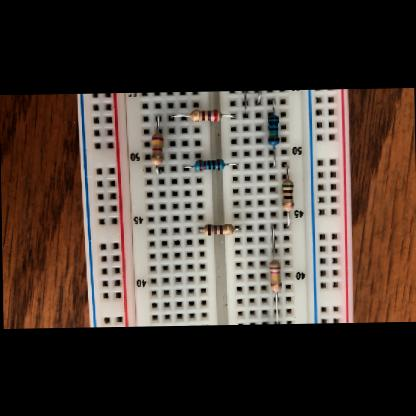breadboard: (75, 89, 353, 328)
resistor: (149, 132, 163, 166), (192, 158, 224, 172), (281, 179, 293, 212), (268, 260, 280, 292), (188, 109, 220, 121), (202, 224, 233, 236), (266, 114, 277, 146)
wire: (270, 225, 274, 259), (274, 292, 278, 324), (266, 98, 274, 113), (268, 147, 274, 167), (169, 114, 188, 119), (282, 163, 288, 178), (254, 90, 260, 104), (220, 113, 235, 118), (154, 115, 158, 132), (284, 211, 288, 228), (243, 90, 245, 116), (154, 166, 160, 174), (224, 164, 236, 167), (182, 165, 193, 168), (233, 227, 240, 230), (197, 228, 202, 231)
